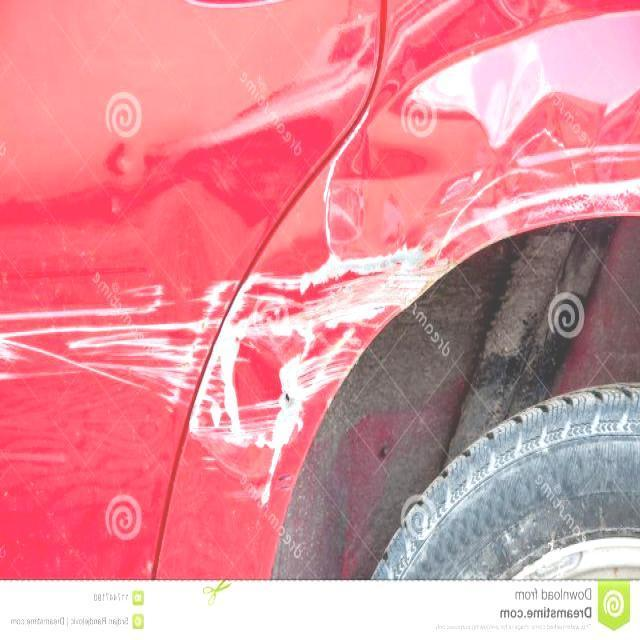minor: (400, 11, 640, 149)
moderate: (186, 249, 452, 528), (0, 284, 230, 399), (436, 144, 640, 263)
